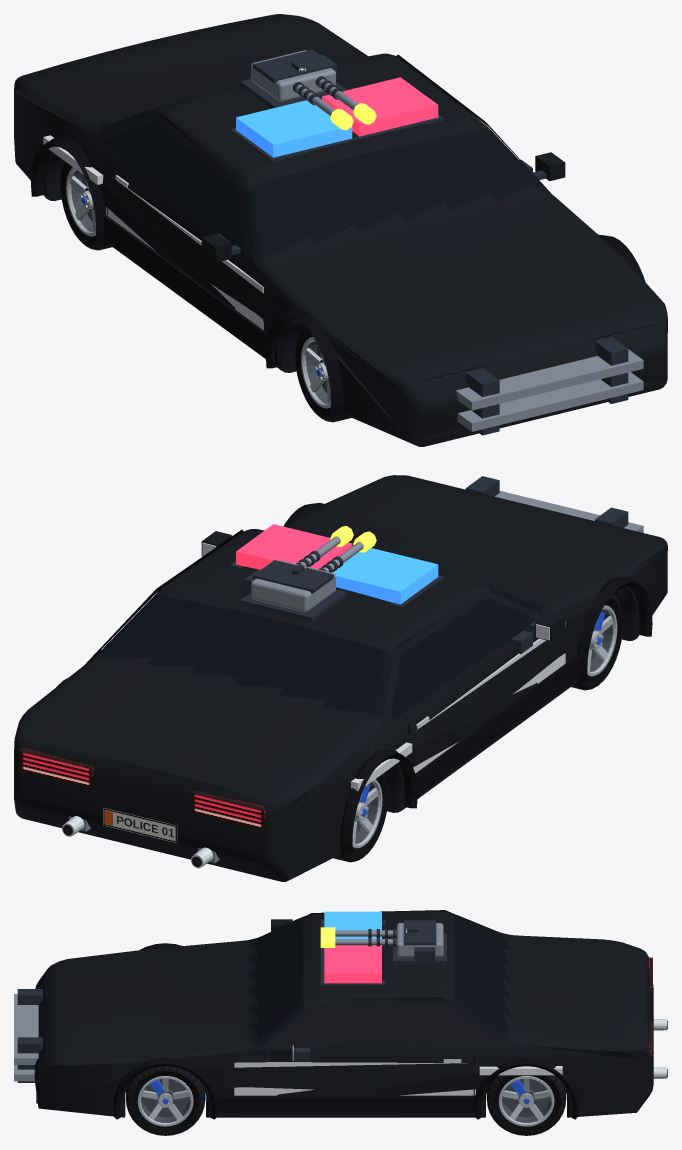
The model's file is warden_px.glb.
3 renders of one model, top to bottom at view 1: azimuth 30°, elevation 25°; view 2: azimuth 150°, elevation 25°; view 3: azimuth 270°, elevation 25°, orthographic. The views are drawn at different scales.
Parts seen in each view (by area): view 1: chassis, gun, wheel_FR, wheel_RR; view 2: chassis, gun, wheel_FR, wheel_RR; view 3: chassis, wheel_FL, wheel_RL, gun.
Part boxes in pixels (x1,y1,x2,y2): chassis: [14, 14, 667, 446]; gun: [251, 49, 376, 130]; wheel_FR: [295, 326, 351, 422]; wheel_RR: [60, 161, 111, 250]; chassis: [14, 475, 667, 881]; gun: [244, 526, 376, 612]; wheel_FR: [571, 594, 623, 690]; wheel_RR: [333, 773, 388, 862]; chassis: [14, 910, 667, 1119]; wheel_FL: [126, 1066, 205, 1135]; wheel_RL: [486, 1075, 566, 1135]; gun: [320, 920, 443, 961].
Bounding box in the file's own units: 2.44 × 1.36 × 5.15.
21 materials, 5 textured.
